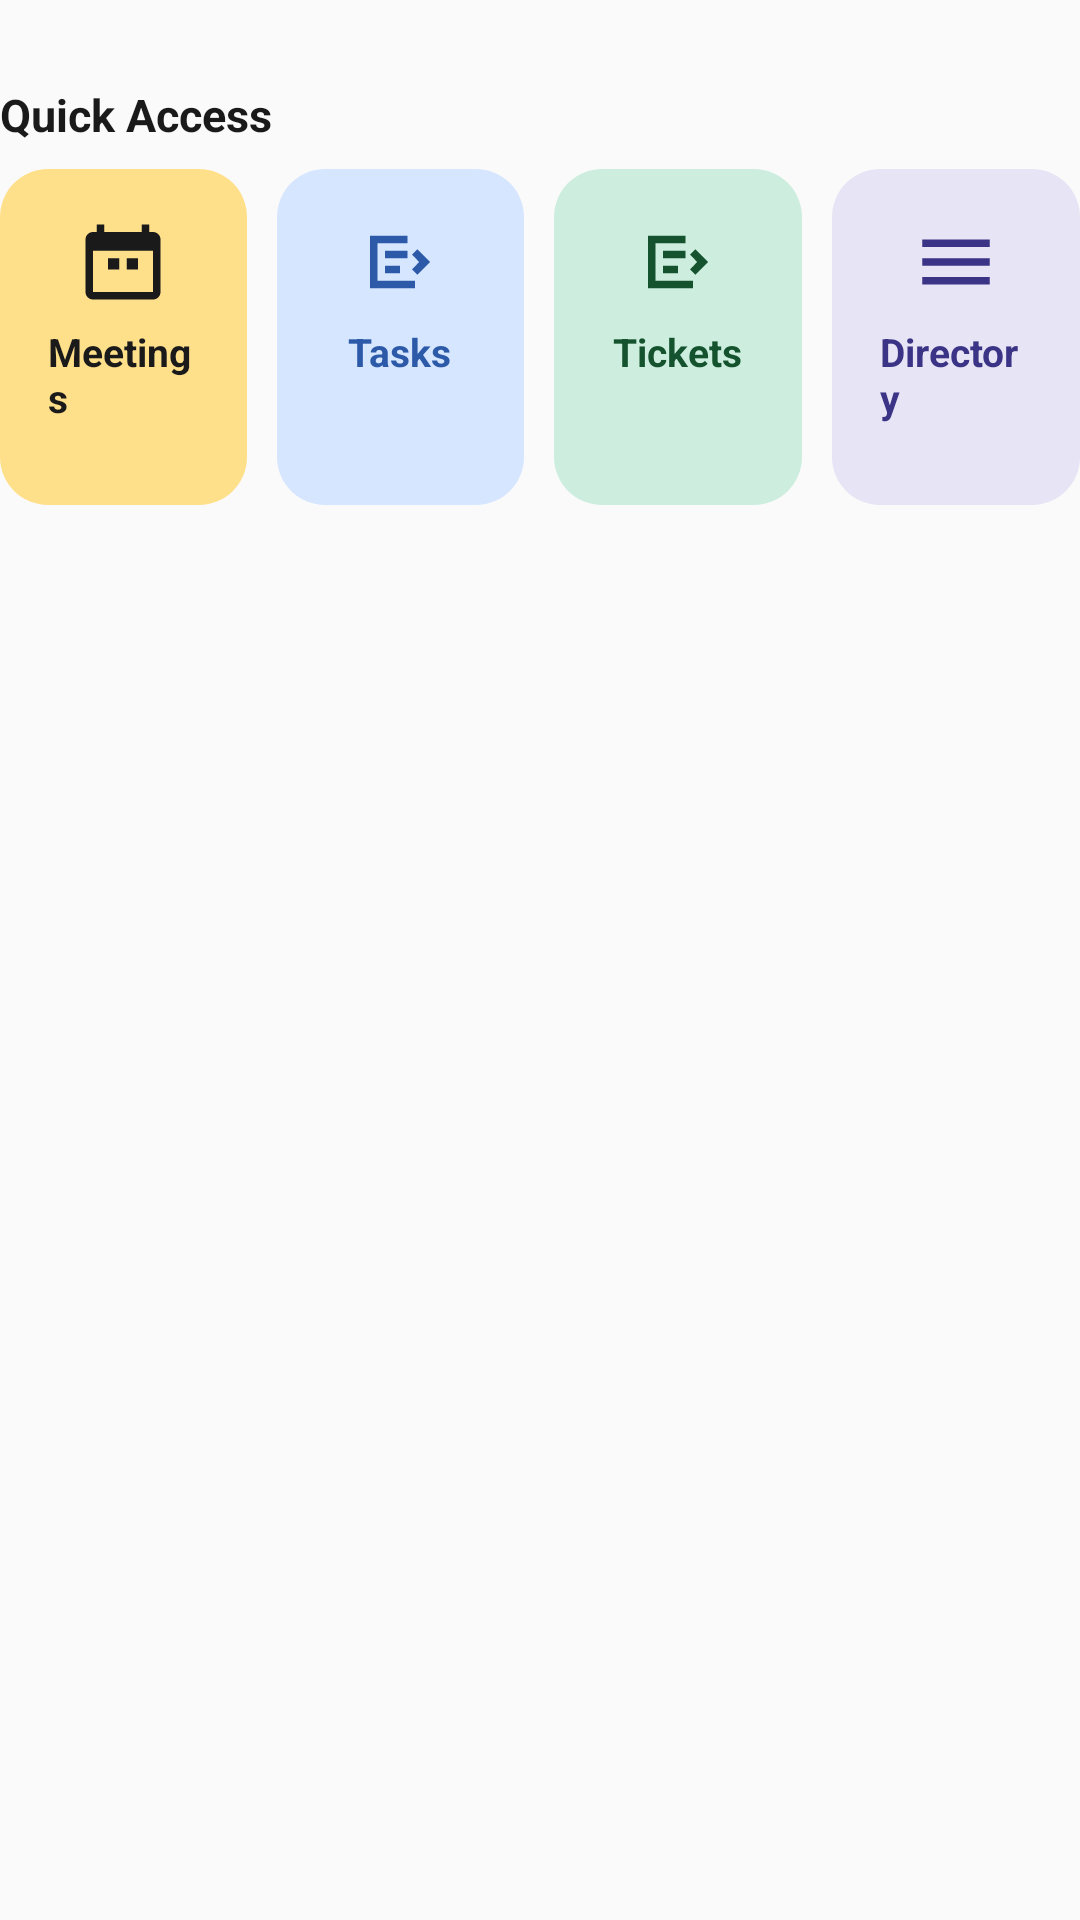

Icon bounding boxes for this 1080w x 1920h phone screenshot, format (x1, y1, x2, y2):
calendar: (85, 224, 161, 300)
menu: (922, 239, 990, 285)
